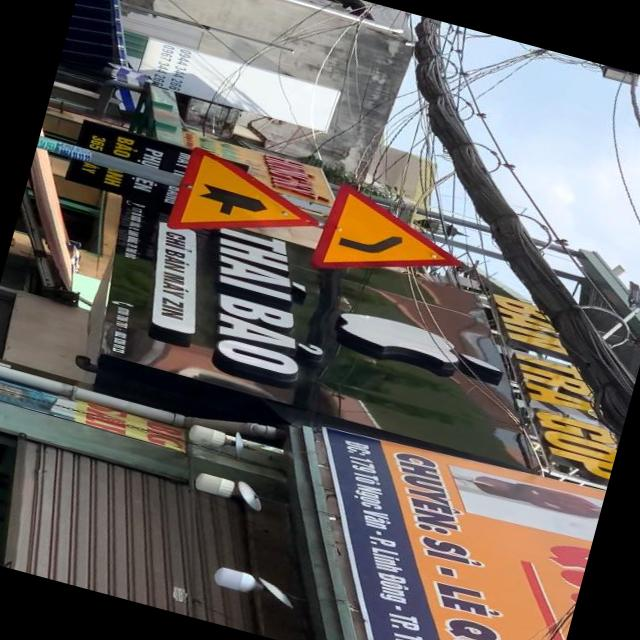W-201a: (312, 181, 469, 303)
W-207b: (166, 140, 330, 266)
